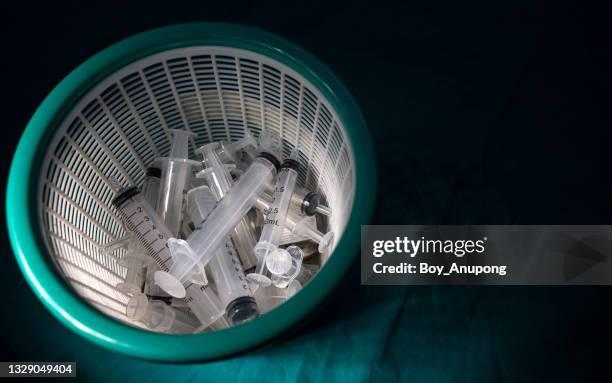Syringe: (155, 136, 279, 295), (247, 150, 298, 284), (112, 187, 172, 270), (207, 236, 258, 324), (156, 129, 197, 236), (173, 268, 224, 327), (126, 293, 200, 333), (284, 209, 333, 252), (196, 143, 233, 199), (116, 236, 146, 293), (266, 245, 303, 287), (215, 130, 256, 163), (254, 284, 297, 313), (291, 186, 330, 215), (144, 260, 168, 296), (141, 166, 161, 208)
